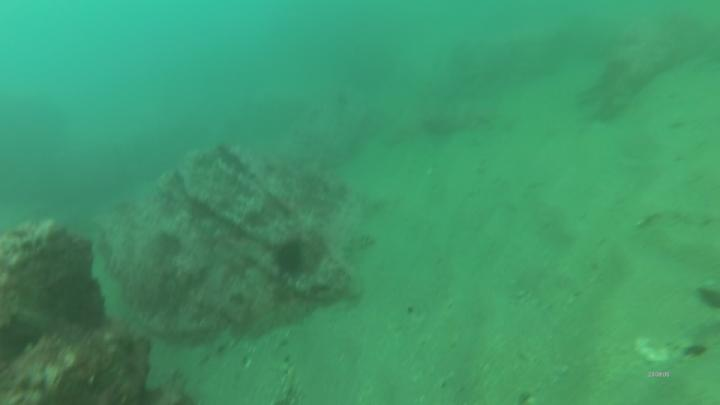echinus: (274, 234, 310, 280)
